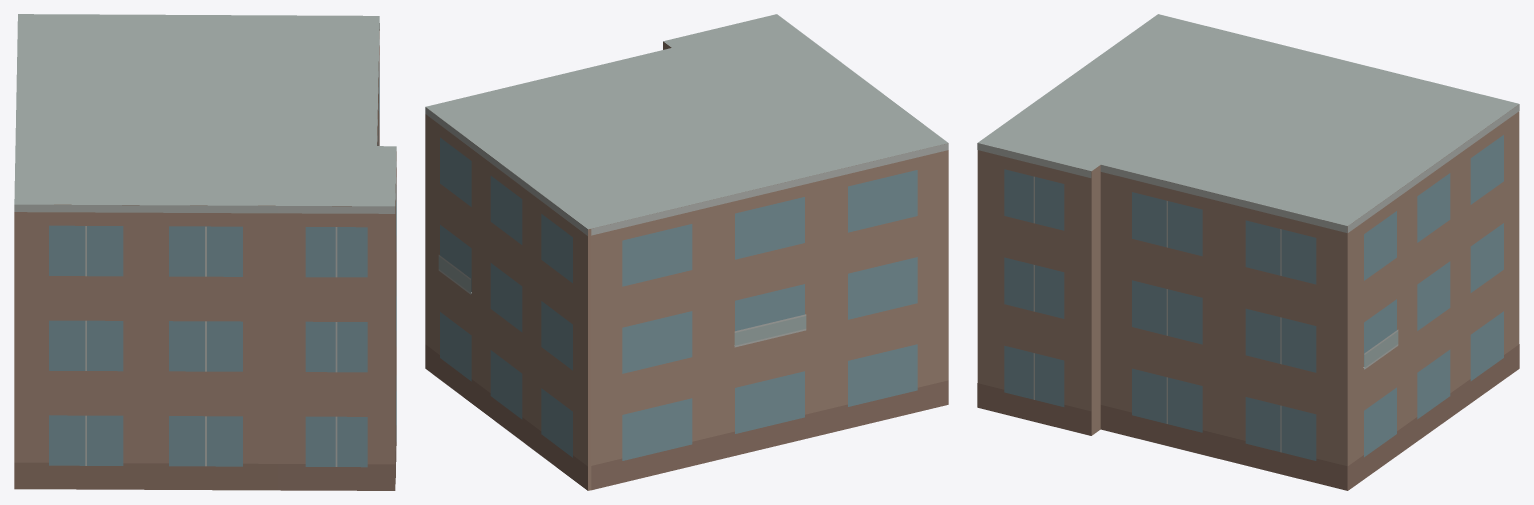
File: survey-upis-32818157.glb
3 renders of one model, left to right at view 1: azimuth 30°, elevation 25°; view 2: azimuth 150°, elevation 25°; view 3: azimuth 270°, elevation 25°, orthographic. The views are drawn at different scales.
Parts seen in each view (by area): view 1: survey-upis-32818157.tmp; view 2: survey-upis-32818157.tmp; view 3: survey-upis-32818157.tmp.
Boxes of the visible parts, x1,y1,x2,y2 form: survey-upis-32818157.tmp: [14, 14, 396, 490]; survey-upis-32818157.tmp: [425, 14, 948, 490]; survey-upis-32818157.tmp: [977, 14, 1519, 490].
Size of the model in its own units: 15.74 by 9.15 by 16.99.
